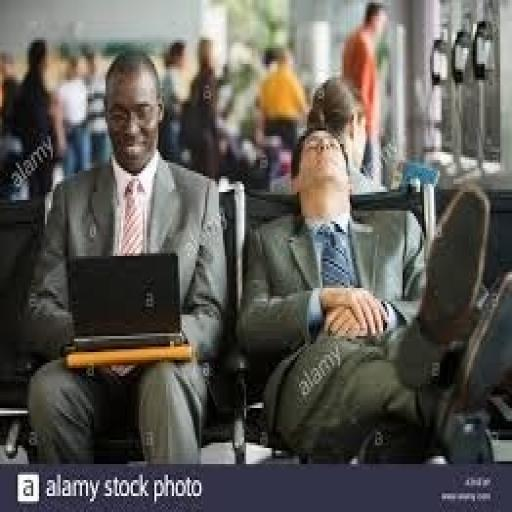using_laptop: (64, 248, 186, 352)
